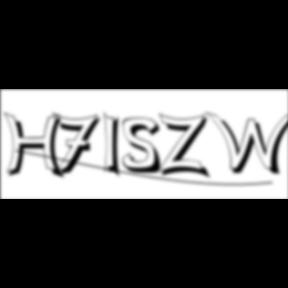7: (52, 111, 106, 179)
H: (4, 112, 70, 182)
I: (104, 110, 128, 182)
S: (123, 117, 169, 176)
Z: (160, 112, 215, 181)
